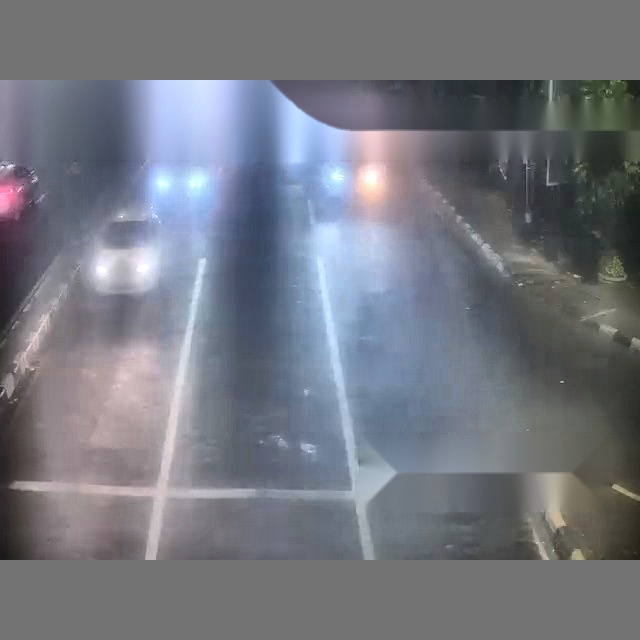Motor: (0, 162, 37, 222)
